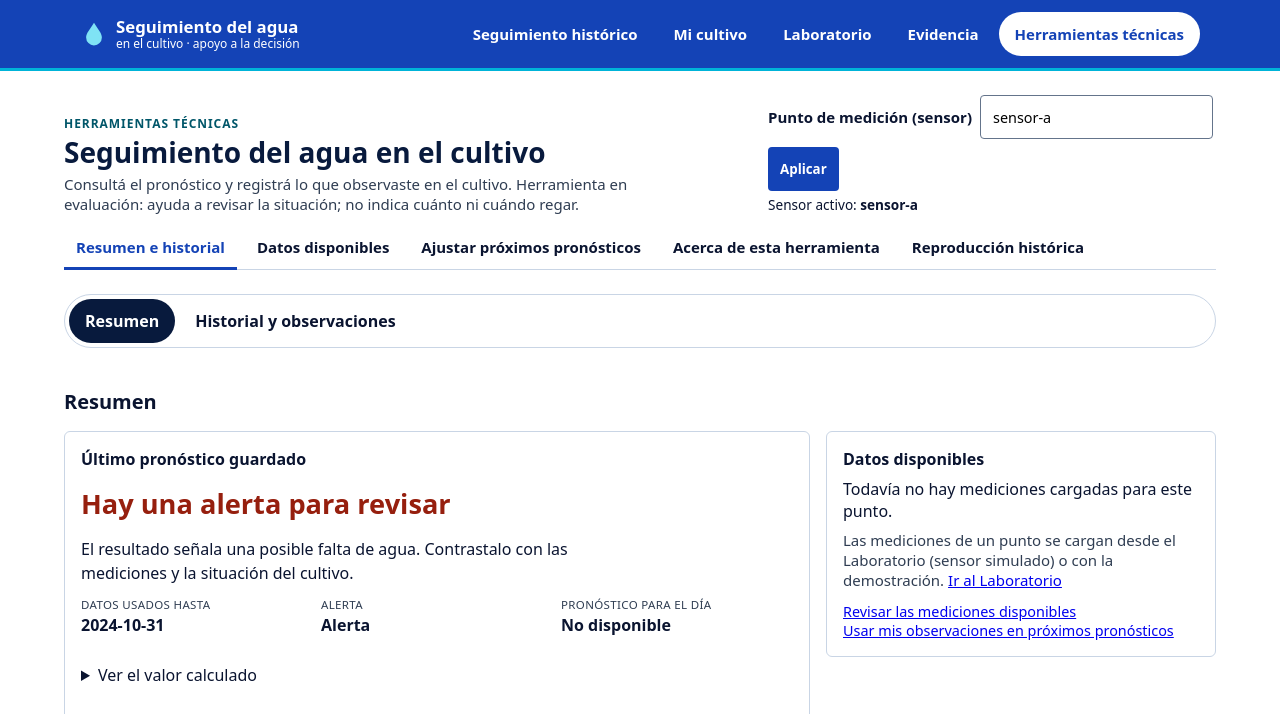
Test: App — navegación por hash (Entrega 2) › does not lose the last forecast result when navigating away and back to Resumen
The width and height of the screenshot is (1280, 714).
Check: the text "2024-10-31" is shown, box [81,614,164,636]
Step 1. Click the link "Datos disponibles" → (323, 246), box [257,236,389,256]
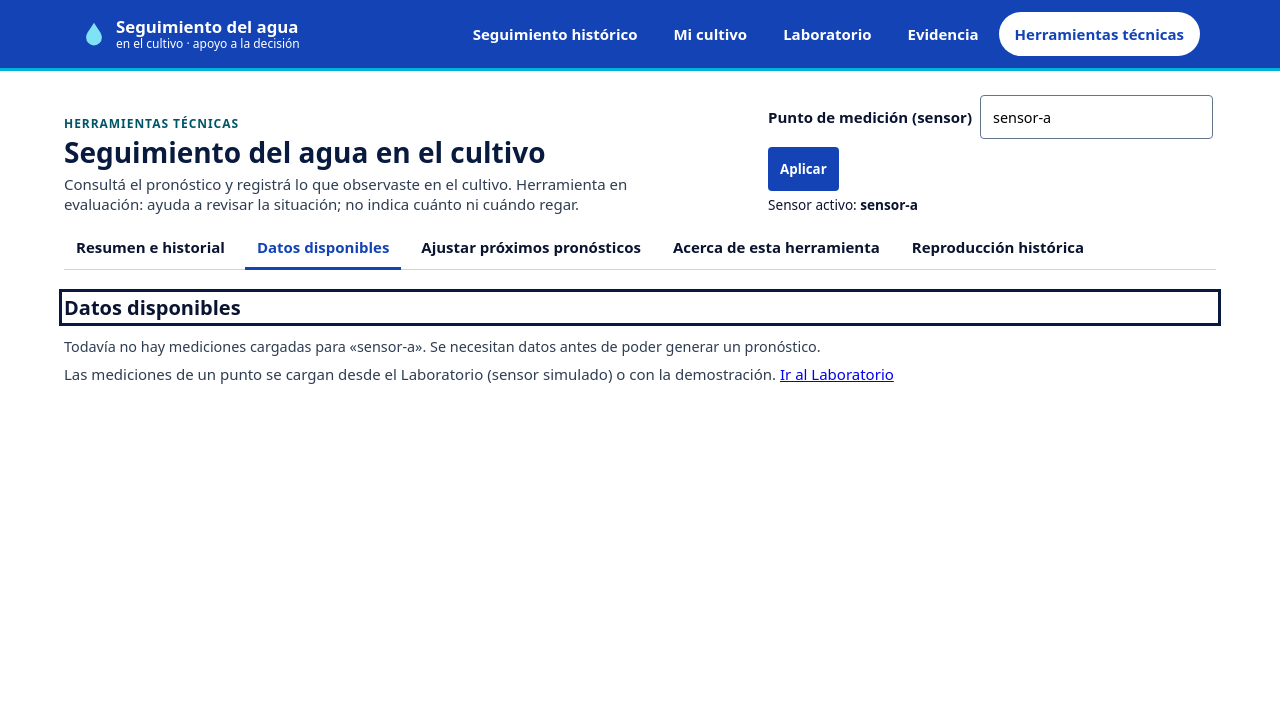
Check: the heading "Datos disponibles" is shown, box [64,294,1216,321]
Step 2. Click the link "Resumen e historial" → (150, 246), box [76,236,225,256]
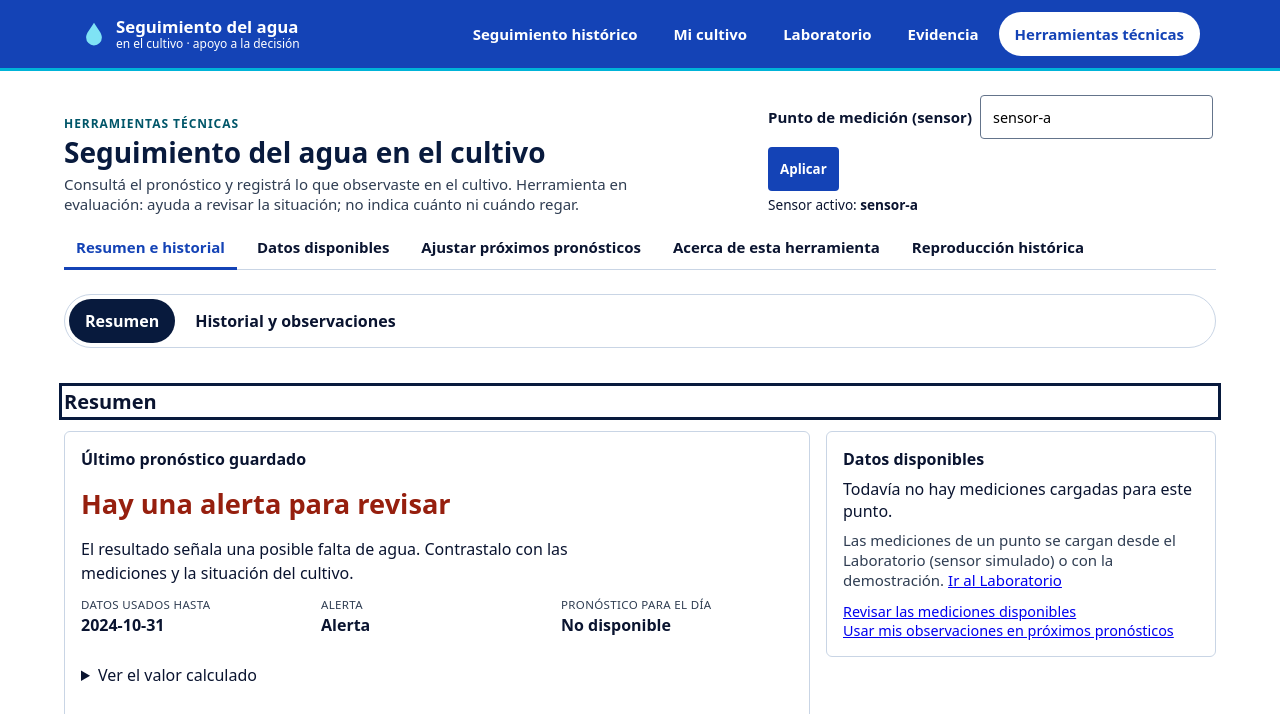
Check: the text "2024-10-31" is shown, box [81,614,164,636]
